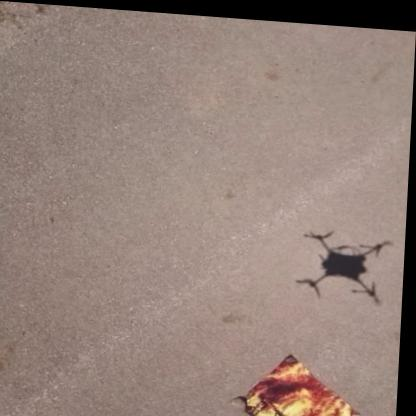fire-poster: (233, 345, 371, 416)
